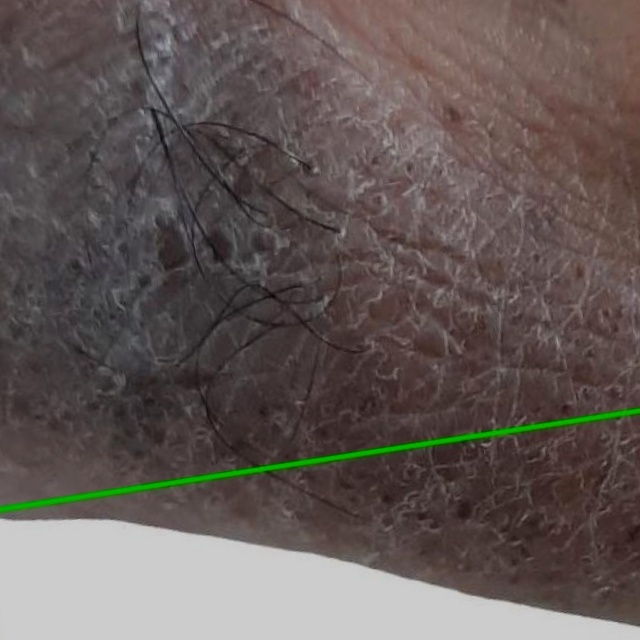Eczema: (0, 412, 639, 639)
